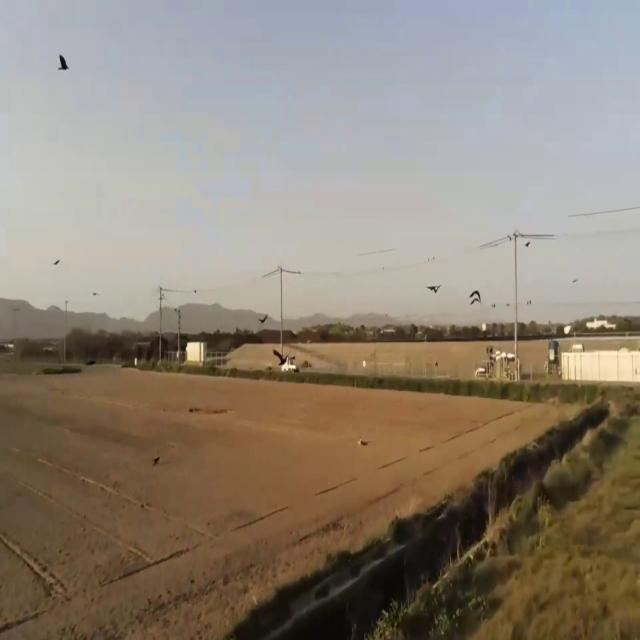bird: (426, 275, 442, 305), (58, 42, 70, 82), (469, 281, 482, 312), (273, 343, 288, 369), (258, 307, 268, 331), (152, 447, 160, 473)
